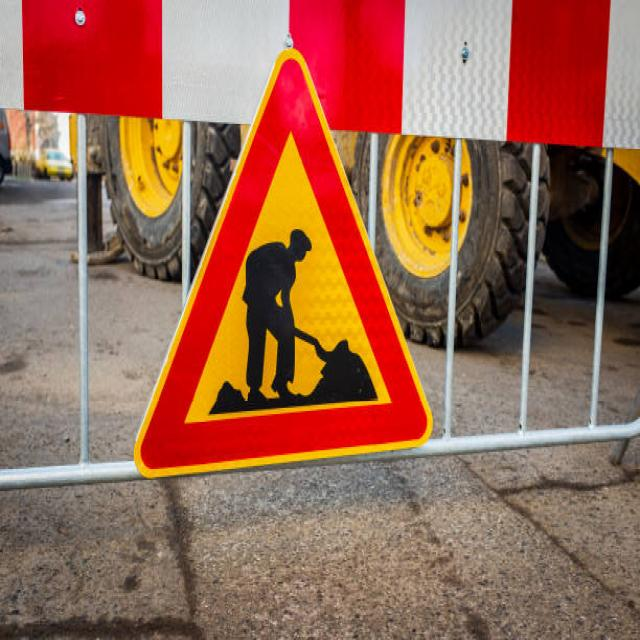road_work: (136, 48, 434, 466)
